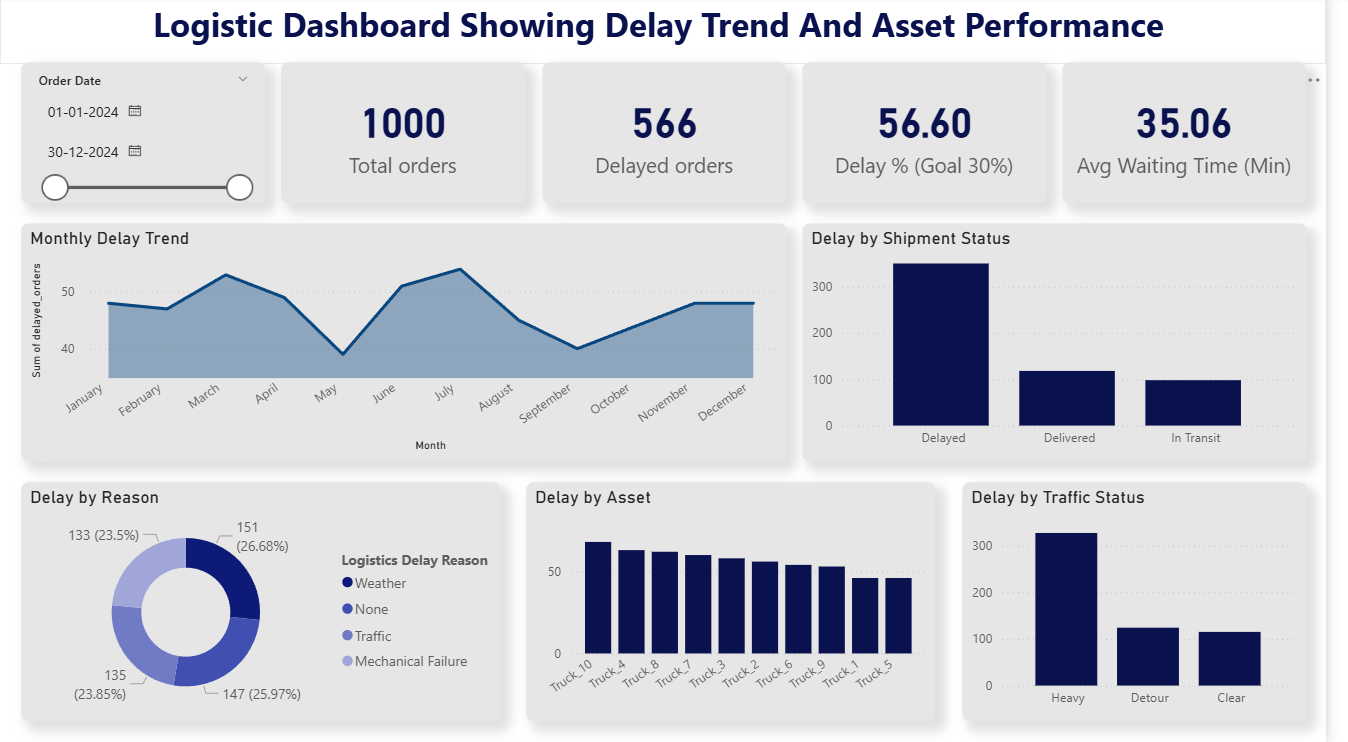

The dashboard page shown, as its layout file describes it:
{"tool":"powerbi","page":{"name":"Page 1","canvas":[1280,720],"ordinal":0},"visuals":[{"type":"textbox","box":[0,0,1280,65.1],"z":0},{"type":"card","fields":{"Values":["logistics vw_daily_delay_trend.Total orders"]},"box":[20.5,65.1,289,136.3],"z":1000},{"type":"card","fields":{"Values":["logistics vw_daily_delay_trend.Delayed orders"]},"box":[338.2,65.1,289,136.3],"z":2000},{"type":"card","fields":{"Values":["logistics vw_daily_delay_trend.Delay %"]},"box":[655.9,65.1,289,136.3],"z":3000},{"type":"areaChart","title":"Monthly Delay Trend","fields":{"Category":["logistics vw_daily_delay_trend.order_date.Variation.Date Hierarchy.Month"],"Y":["Sum(vw_daily_delay_trend.delayed_orders)"]},"box":[20.5,223.2,821.6,250.9],"z":4000},{"type":"donutChart","title":"Delay by Reason","fields":{"Category":["logistics_data.logistics_delay_reason"],"Y":["logistics_data.Delayed Orders (Fact)"]},"box":[10.9,469.3,452.4,250.9],"z":5000},{"type":"slicer","fields":{"Values":["logistics vw_daily_delay_trend.order_date"]},"box":[472.9,487.4,243.7,107.4],"z":6000},{"type":"card","fields":{"Values":["logistics_data.Avg Waiting Time"]},"box":[973.6,65.1,289.5,136.3],"z":7000},{"type":"clusteredColumnChart","title":"Delay by Traffic Status","fields":{"Y":["logistics_data.Delayed Orders (Fact)"],"Category":["logistics_data.traffic_status"]},"box":[746.8,469.3,452.4,250.9],"z":8000},{"type":"clusteredColumnChart","title":"Delay by Shipment Status","fields":{"Y":["logistics_data.Delayed Orders (Fact)"],"Category":["logistics_data.shipment_status"]},"box":[799.1,233.1,452.2,251.6],"z":10000},{"type":"clusteredColumnChart","title":"Delay by Traffic Status","fields":{"Category":["logistics_data.traffic_status"],"Y":["logistics_data.Avg Waiting Time"]},"box":[400.5,469.3,452.4,250.9],"z":10001}]}

Visuals, with their boxes in screenshot pixels (x1, y1, x2, y2), scaled from the page's 1280x720 canvas onto the 1348x742 screenshot:
textbox: l=0, t=0, r=1347, b=67
card - logistics vw_daily_delay_trend.Total orders: l=22, t=67, r=326, b=208
card - logistics vw_daily_delay_trend.Delayed orders: l=356, t=67, r=661, b=208
card - logistics vw_daily_delay_trend.Delay %: l=691, t=67, r=995, b=208
"Monthly Delay Trend" areaChart: l=22, t=230, r=887, b=489
"Delay by Reason" donutChart: l=11, t=484, r=488, b=741
slicer - logistics vw_daily_delay_trend.order_date: l=498, t=502, r=755, b=613
card - logistics_data.Avg Waiting Time: l=1025, t=67, r=1330, b=208
"Delay by Traffic Status" clusteredColumnChart: l=786, t=484, r=1263, b=741
"Delay by Shipment Status" clusteredColumnChart: l=842, t=240, r=1318, b=500
"Delay by Traffic Status" clusteredColumnChart: l=422, t=484, r=898, b=741
